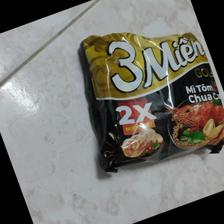3mien: (78, 32, 224, 174)
